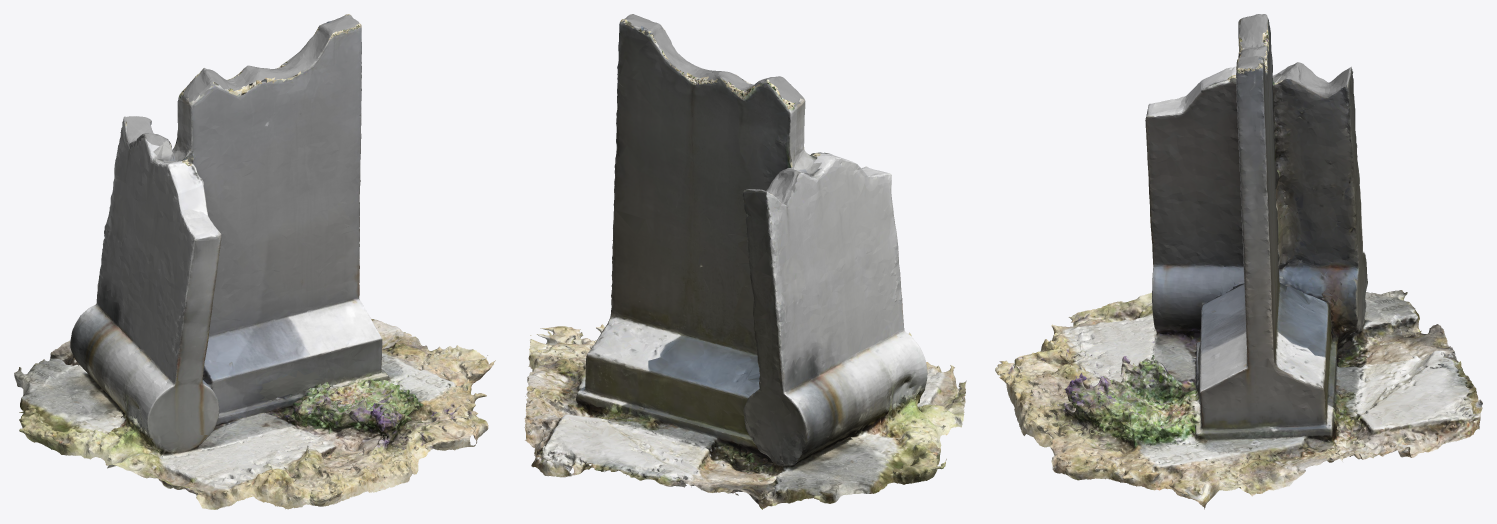
3 views of the same model, side by side, from view 1: azimuth 30°, elevation 25°; view 2: azimuth 150°, elevation 25°; view 3: azimuth 270°, elevation 25° (orthographic). The views are drawn at different scales.
Parts seen in each view (by area): view 1: 2k.50k; view 2: 2k.50k; view 3: 2k.50k.
Boxes of the visible parts, x1,y1,x2,y2 form: 2k.50k: [14, 14, 495, 509]; 2k.50k: [524, 14, 966, 509]; 2k.50k: [995, 14, 1482, 509].
Bounding box in the file's own units: 4.28 × 3.54 × 3.92.
1 material, 1 textured.
